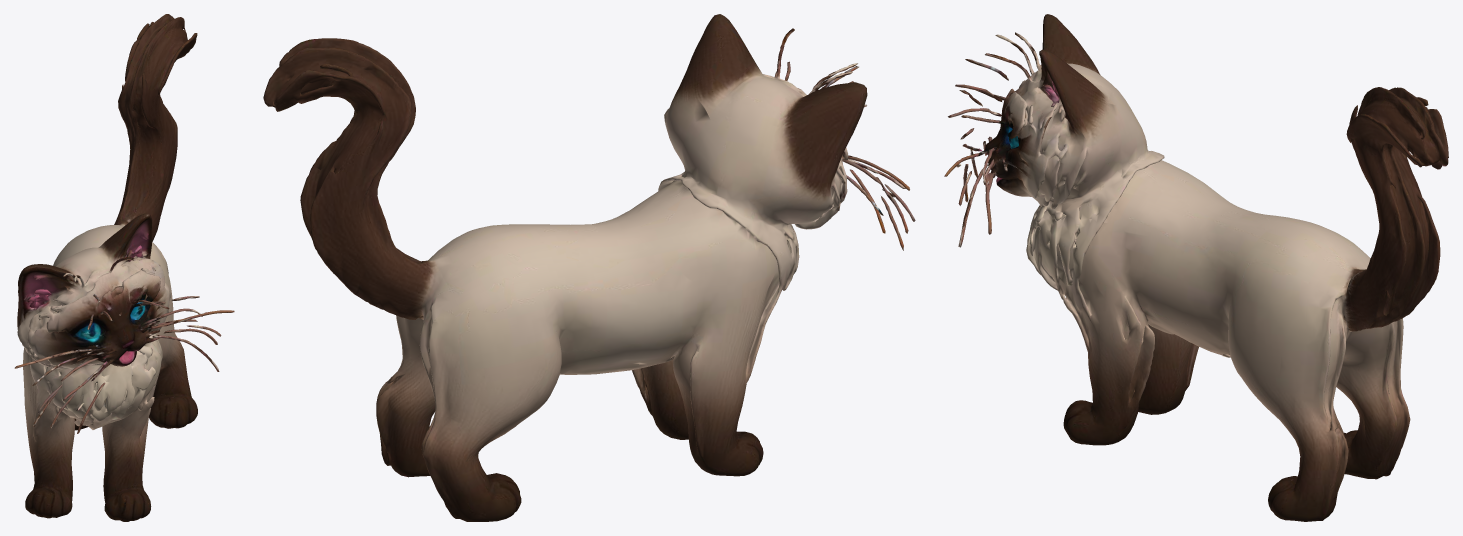
Rendered from gpu-standing.glb.
3 renders of one model, left to right at view 1: azimuth 30°, elevation 25°; view 2: azimuth 150°, elevation 25°; view 3: azimuth 270°, elevation 25°, orthographic. The views are drawn at different scales.
Visible parts, largest first — view 1: textured; view 2: textured; view 3: textured.
Boxes of the visible parts, x1,y1,x2,y2 form: textured: (14, 14, 234, 521); textured: (263, 14, 915, 521); textured: (944, 14, 1448, 521).
Bounding box in the file's own units: 1.87 × 1.91 × 1.97.
1 material, 1 textured.
